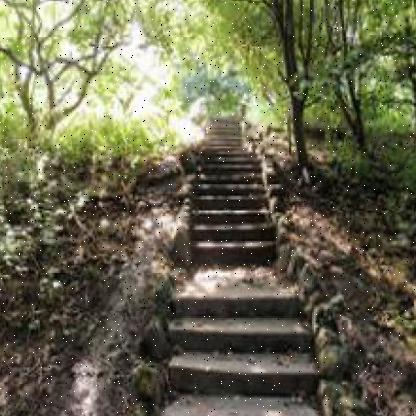stair_up: (178, 143, 301, 392)
